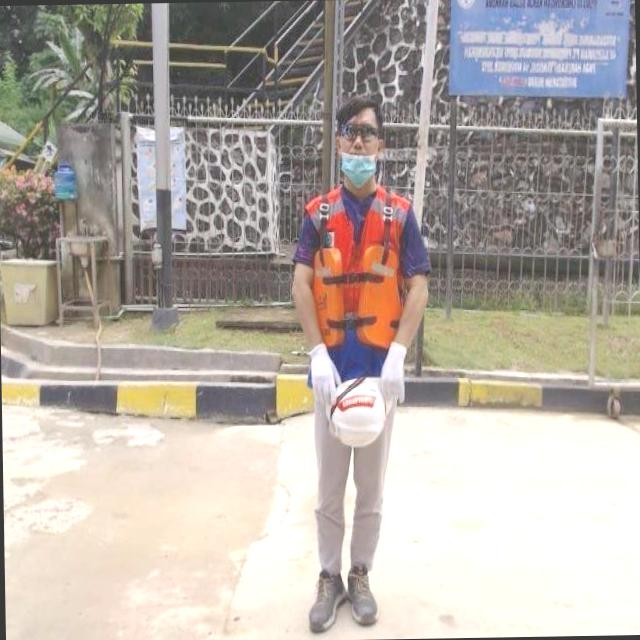vest: (303, 184, 412, 390)
